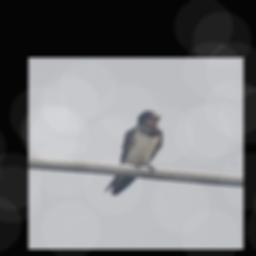Swallow: (104, 108, 166, 199)
